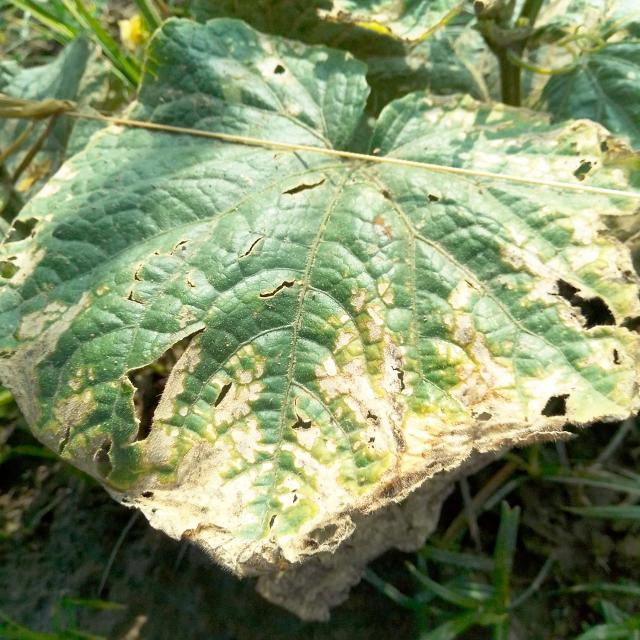Gummy-Stem-Blight: (2, 282, 515, 578)
